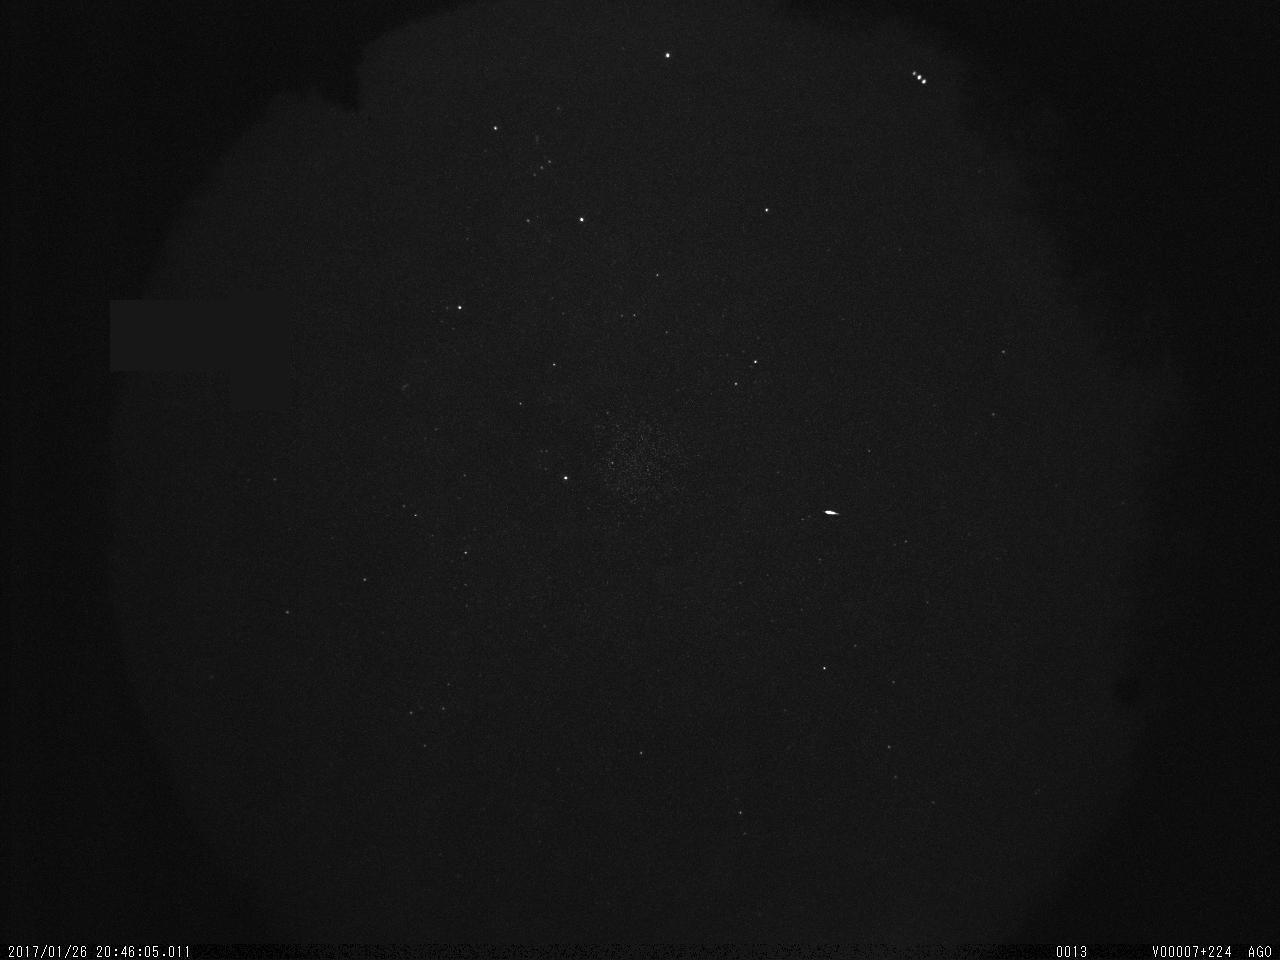Meteor: (821, 507, 840, 518)
